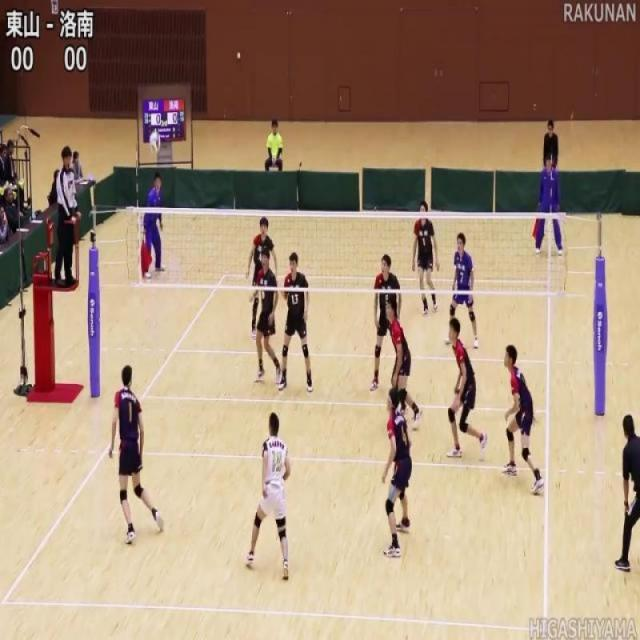volleyball: (148, 128, 162, 156)
